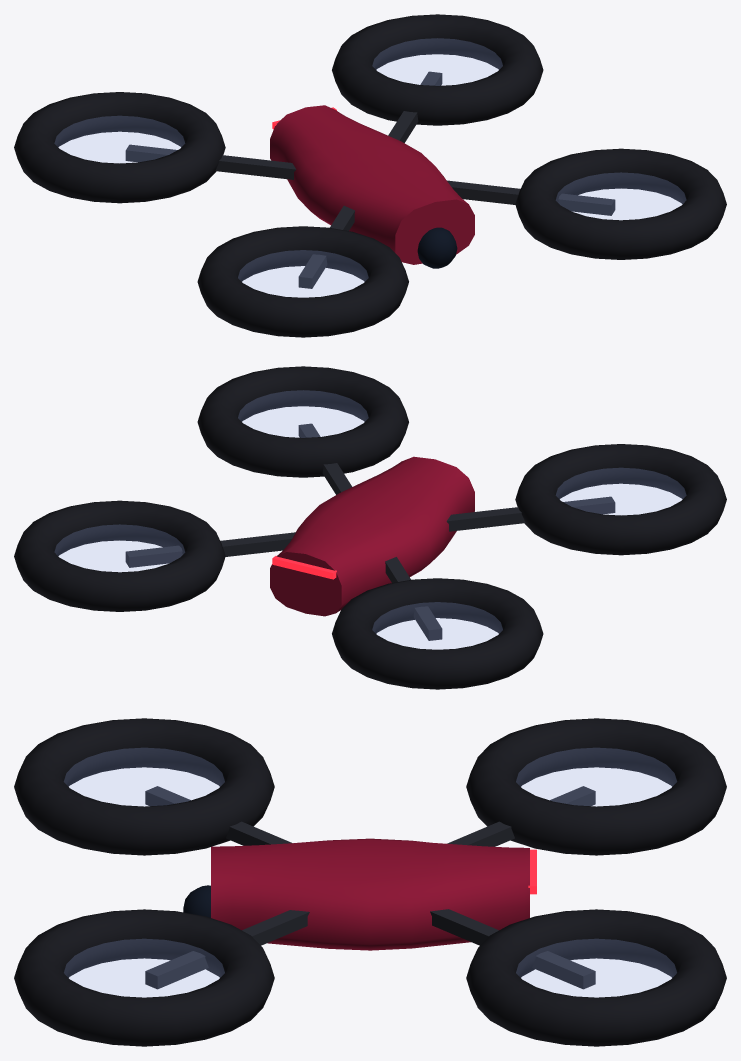
File: tr_scout.glb
The picture shows the model from 3 angles, top to bottom: view 1: azimuth 30°, elevation 25°; view 2: azimuth 150°, elevation 25°; view 3: azimuth 270°, elevation 25°; orthographic projection. The views are drawn at different scales.
Parts seen in each view (by area): view 1: paint2, rotor_disc, paint, trim, glass; view 2: paint2, rotor_disc, paint, trim, light_tail; view 3: paint2, paint, rotor_disc, trim, glass.
Part boxes in pixels (box(x1,y1,x2,y2)): paint2: box(14, 14, 726, 337); rotor_disc: box(55, 38, 685, 296); paint: box(270, 105, 474, 264); trim: box(125, 71, 615, 288); glass: box(417, 227, 457, 268); paint2: box(14, 366, 726, 689); rotor_disc: box(55, 390, 685, 648); paint: box(270, 456, 474, 616); trim: box(125, 423, 615, 640); light_tail: box(272, 556, 336, 579); paint2: box(14, 718, 726, 1046); paint: box(211, 838, 529, 950); rotor_disc: box(64, 748, 676, 996); trim: box(145, 786, 595, 989); glass: box(183, 885, 210, 917).
Bounding box in the file's own units: 2.46 × 0.3 × 2.46.
